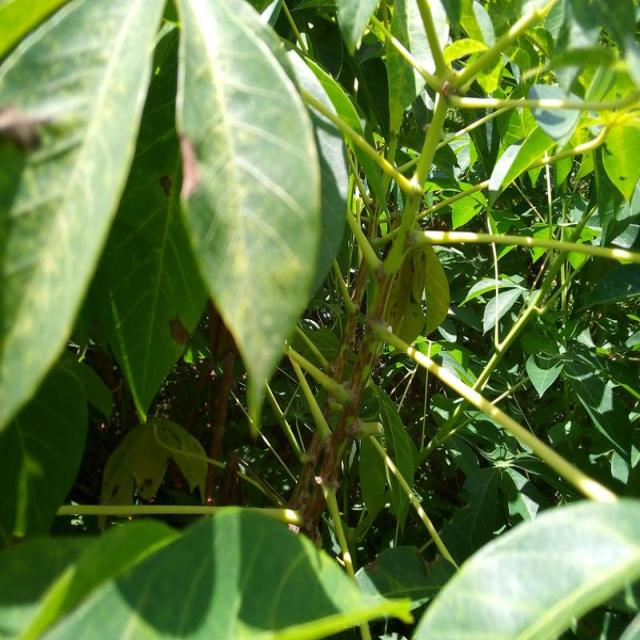cassava leaf: (1, 0, 356, 437), (172, 0, 349, 437), (0, 0, 166, 433), (410, 496, 640, 638)
